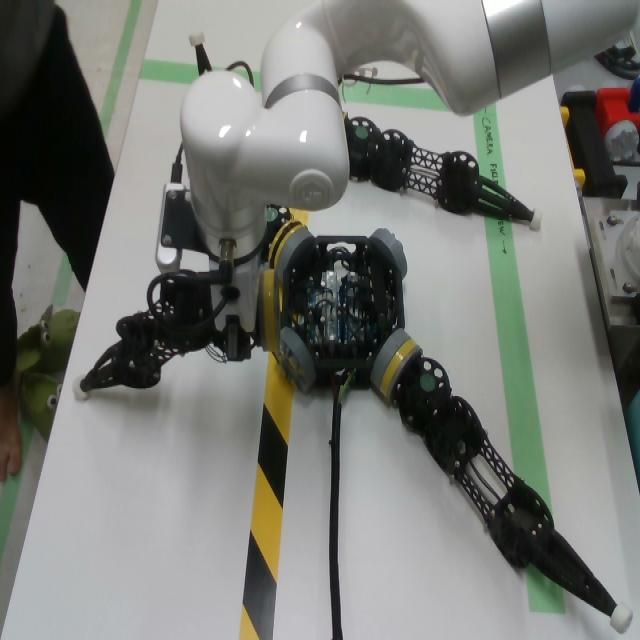body: (283, 236, 405, 389)
body_connector: (370, 329, 411, 389), (279, 328, 316, 393), (276, 228, 314, 280), (369, 228, 407, 279)
leg: (380, 337, 635, 633), (343, 111, 543, 232), (71, 269, 225, 401), (262, 205, 306, 269), (188, 29, 212, 76)
leg_connector: (380, 340, 422, 399), (269, 221, 302, 269)
leg_marker: (420, 375, 435, 392), (266, 208, 278, 221), (356, 127, 368, 139)
